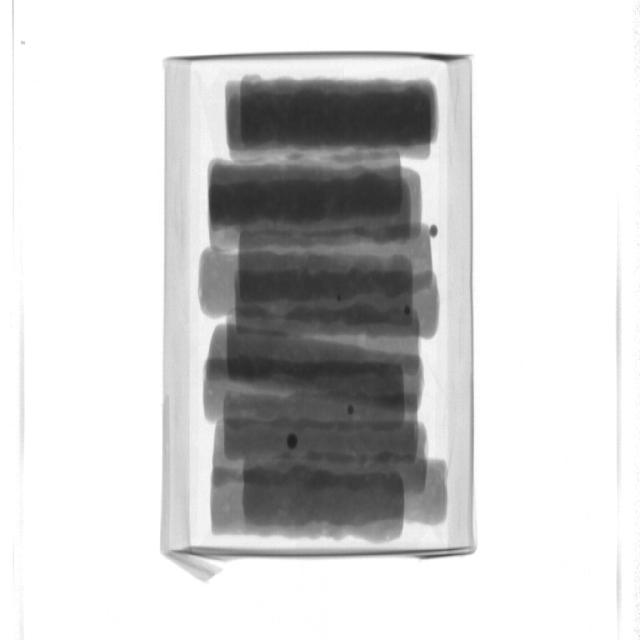ym: (288, 432, 299, 448), (430, 225, 439, 238), (349, 406, 356, 416), (404, 307, 411, 316), (339, 293, 344, 301)
